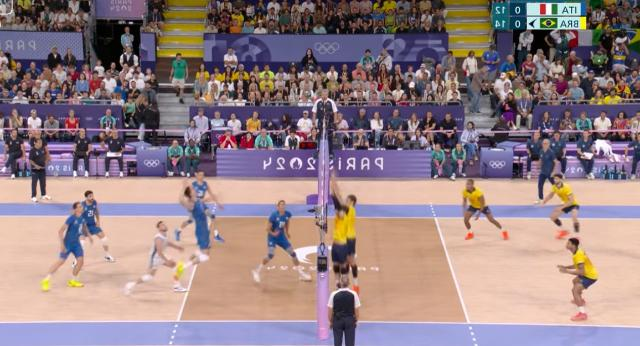Levantador: (330, 191, 348, 287)
Libero: (124, 222, 184, 294)
bola: (202, 90, 216, 107)
